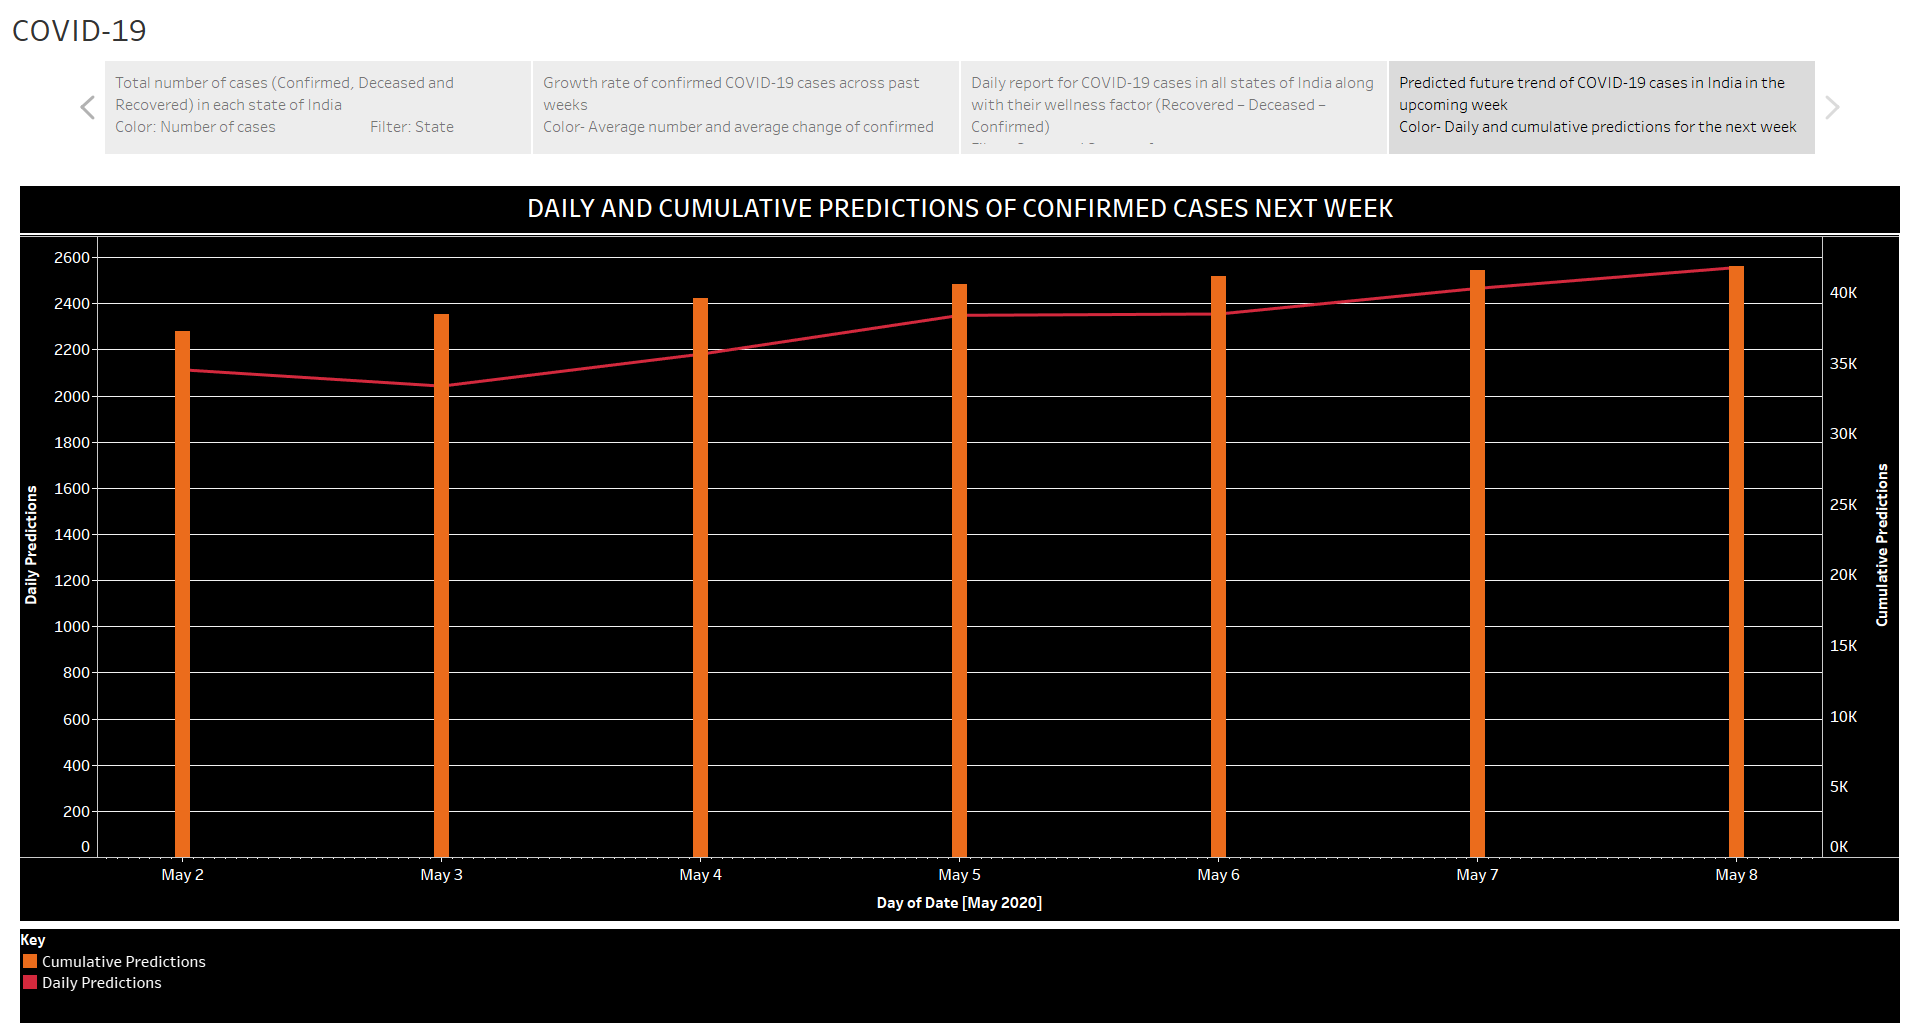

The dashboard page shown, as its layout file describes it:
{"tool":"tableau","page":{"name":"Future prediction","canvas":[1000,1000],"units":"permille","ordinal":1},"visuals":[{"type":"worksheet","title":"Predictions","mark":"Automatic","rows":["Predictions","Predictions"],"cols":["Date"],"box":[4.8,9.3,990.3,863]},{"type":"legend","title":"Predictions","param":"[federated.1wksh8k09pt6im1029ryo0lych4q].[:Measure Names]","box":[4.8,872.2,990.3,118.5]}]}

Visuals, with their boxes on the dashboard's canvas, which has no fixed pixel size, in thousandths of its width and height (x1, y1, x2, y2). These are canvas units, not pixel positions in the 1920x1027 screenshot, which may show the page scaled, cropped or inside an application window:
"Predictions" worksheet: Rect(5, 9, 995, 872)
"Predictions" legend: Rect(5, 872, 995, 991)
